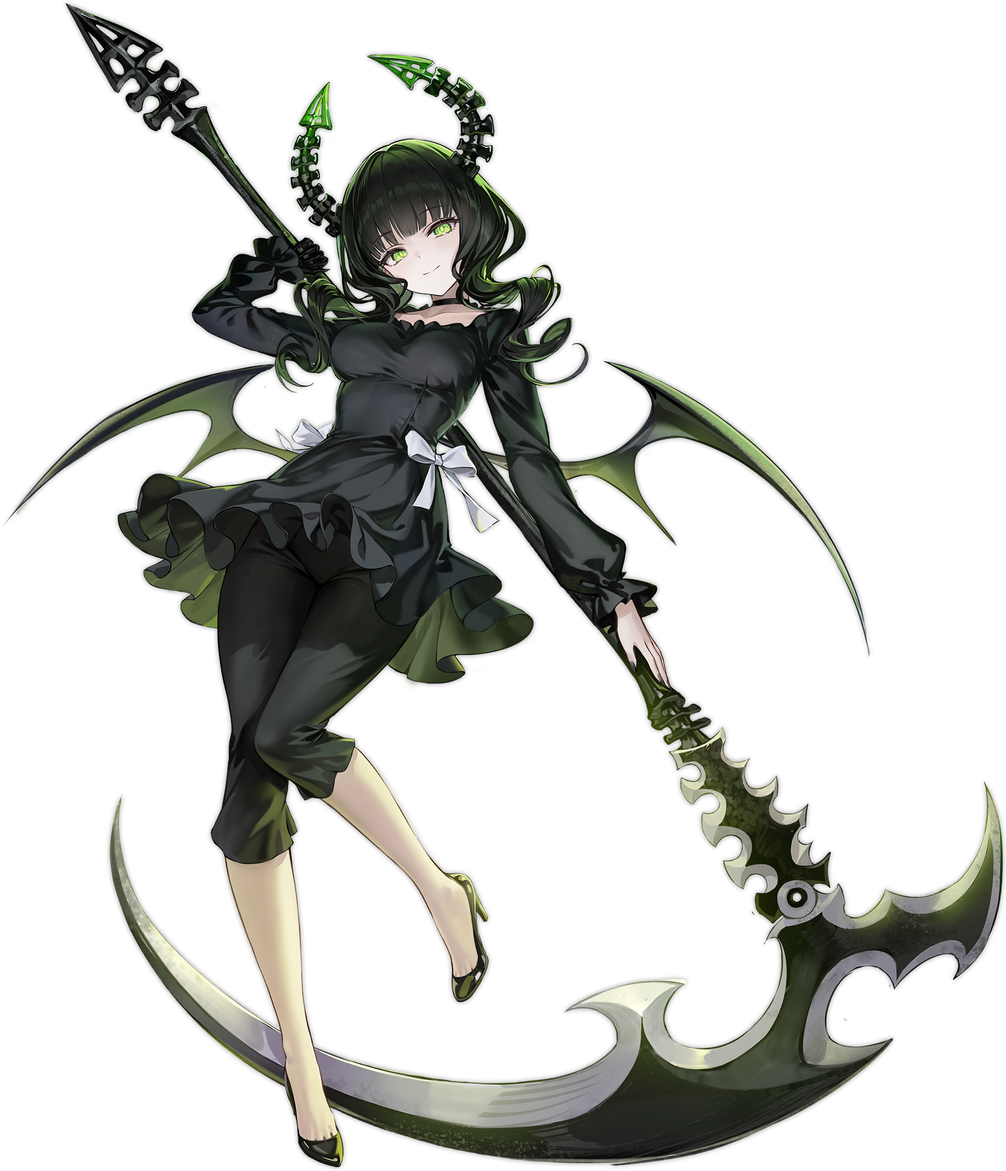person: (30, 82, 777, 1157)
